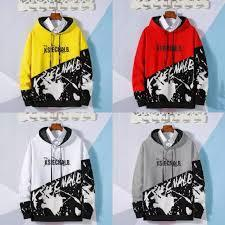sweater: (129, 132, 207, 222), (21, 127, 94, 223), (133, 18, 210, 106), (20, 21, 94, 106)
